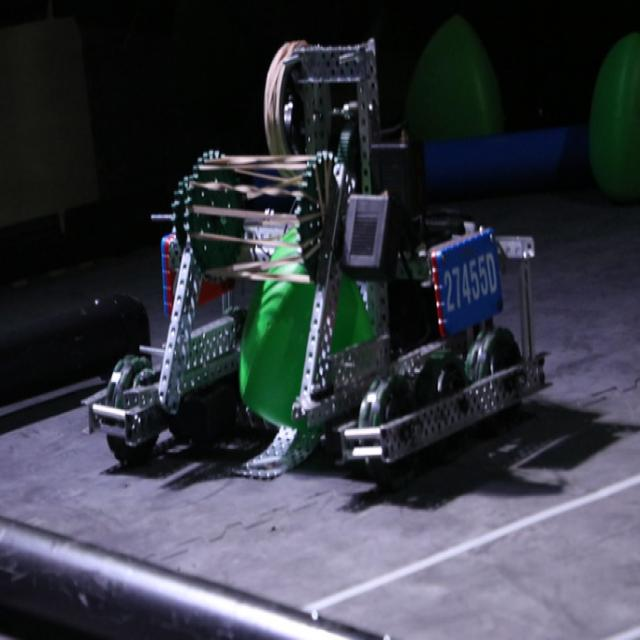License-Plates: (432, 225, 504, 324)
